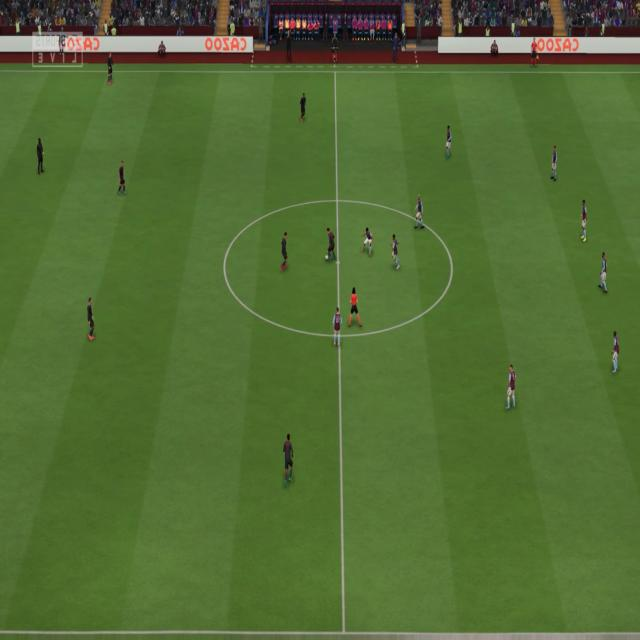Referee: (346, 288, 362, 330)
Team-A: (86, 297, 96, 342), (115, 160, 127, 195), (36, 140, 46, 176), (106, 53, 115, 84)
Team-H: (281, 434, 294, 489), (505, 366, 516, 412), (323, 227, 337, 262), (580, 199, 590, 242), (598, 251, 608, 294), (412, 196, 424, 231), (610, 333, 620, 375), (331, 308, 341, 346), (390, 234, 401, 268), (280, 232, 290, 268), (361, 227, 373, 256), (548, 146, 557, 184), (443, 124, 452, 159), (299, 92, 307, 121)
